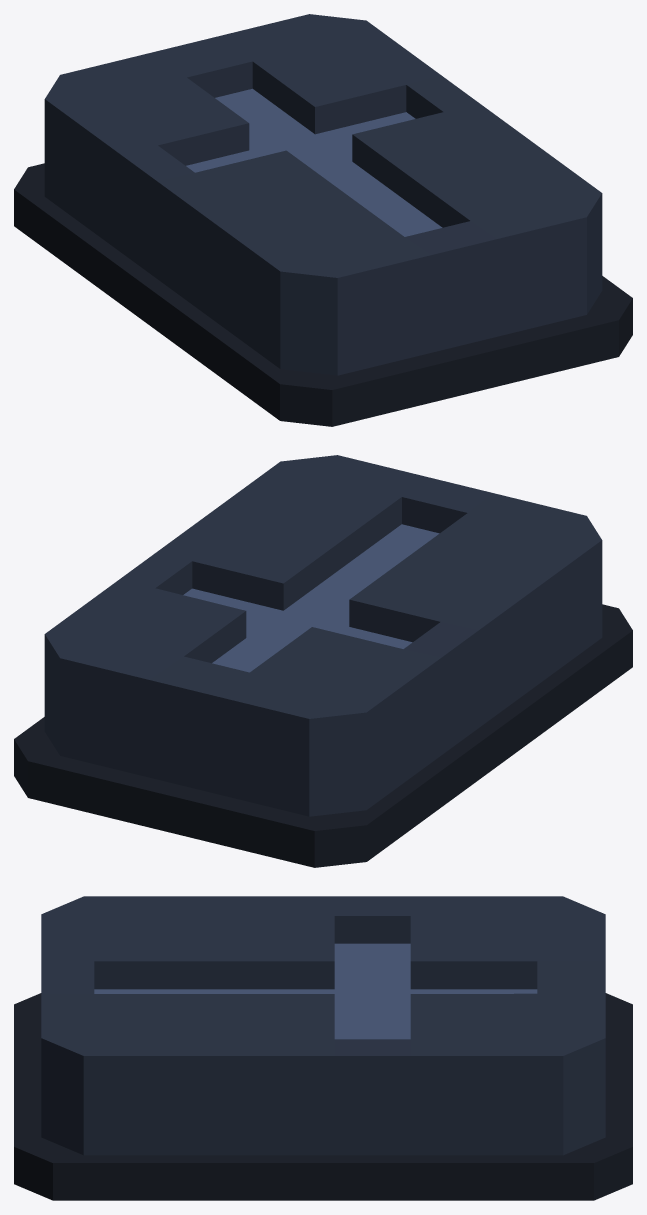
Rendered from grave8.FBX.
The picture shows the model from 3 angles, top to bottom: view 1: azimuth 30°, elevation 25°; view 2: azimuth 150°, elevation 25°; view 3: azimuth 270°, elevation 25°; orthographic projection.
Visible parts, largest first — view 1: grave8; view 2: grave8; view 3: grave8.
Boxes of the visible parts, box(x1,y1,x2,y2) form: grave8: box(14, 14, 632, 426); grave8: box(14, 455, 632, 867); grave8: box(14, 896, 632, 1200).
Size of the model in its own units: 17.84 by 6.5 by 26.66.
